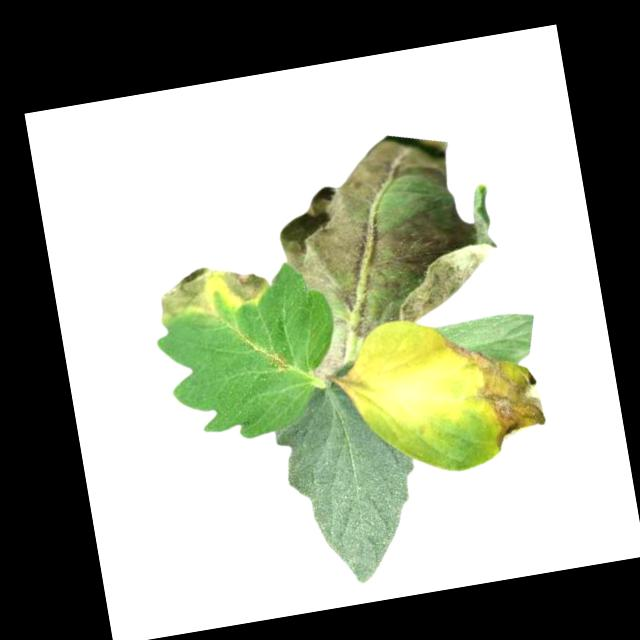Late_blight: (265, 120, 508, 348), (439, 314, 551, 456), (152, 257, 274, 329), (308, 339, 354, 384), (266, 346, 293, 375)
